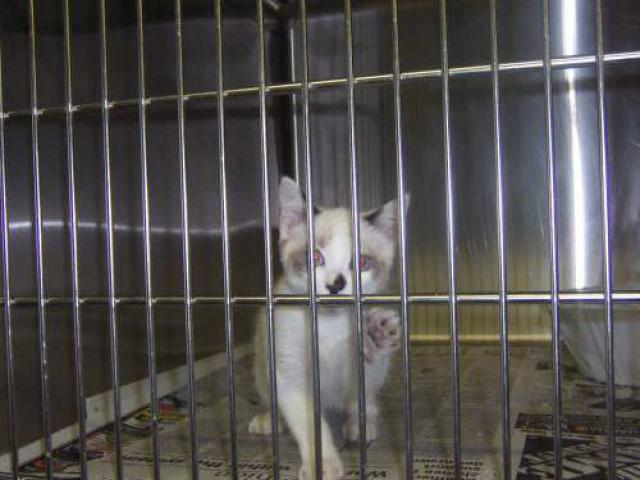cat: (243, 164, 423, 480)
